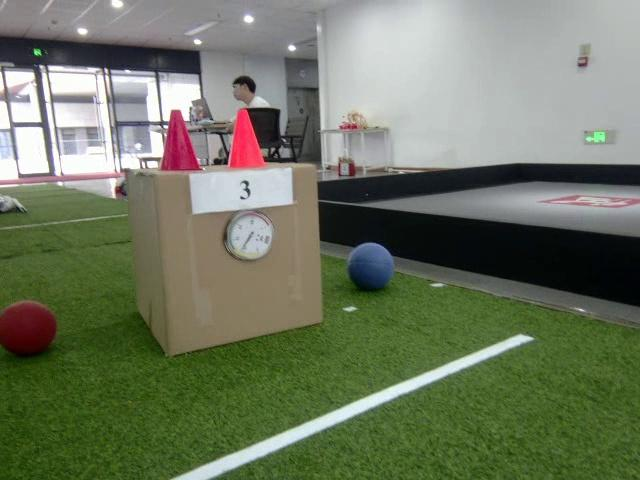3: (238, 179, 251, 201)
Dashboard: (222, 210, 275, 263)
blue_ball: (346, 242, 395, 292)
orange_barrel: (226, 109, 268, 171)
red_ball: (0, 297, 58, 354)
red_barrel: (155, 109, 207, 172)
ssi: (264, 234, 271, 246)
